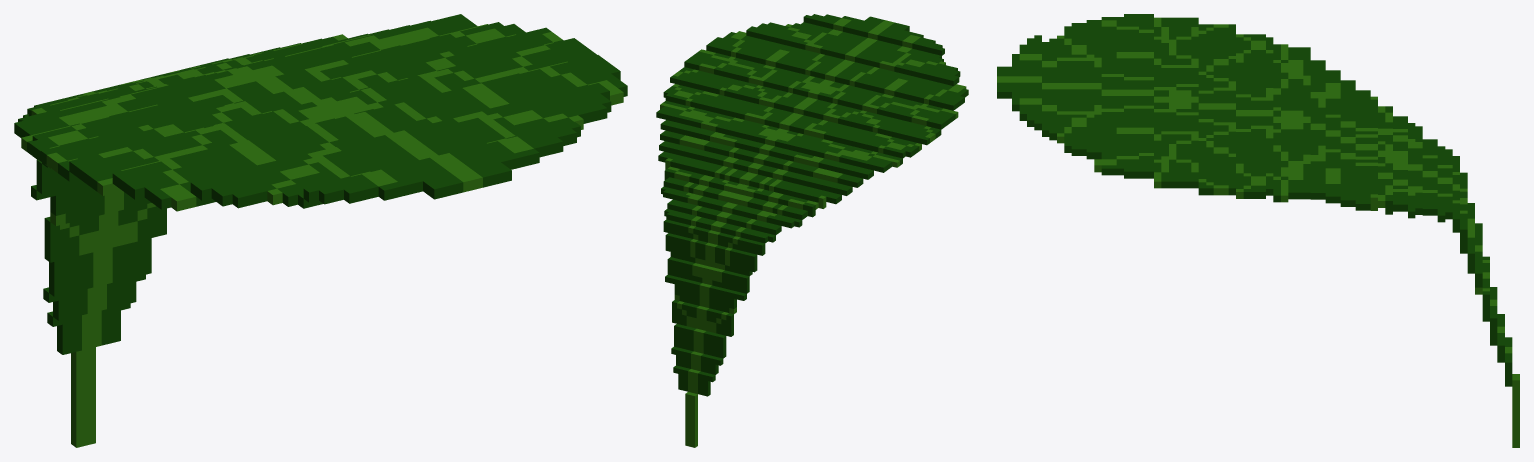
Rendered from Planta1.fbx.
3 renders of one model, left to right at view 1: azimuth 30°, elevation 25°; view 2: azimuth 150°, elevation 25°; view 3: azimuth 270°, elevation 25°, orthographic. The views are drawn at different scales.
Parts seen in each view (by area): view 1: Vegetacao.008; view 2: Vegetacao.008; view 3: Vegetacao.008.
Boxes of the visible parts, x1,y1,x2,y2 form: Vegetacao.008: (14,14,627,447); Vegetacao.008: (656,14,968,447); Vegetacao.008: (997,14,1519,447).
Size of the model in its own units: 5200 by 5400 by 7000.
